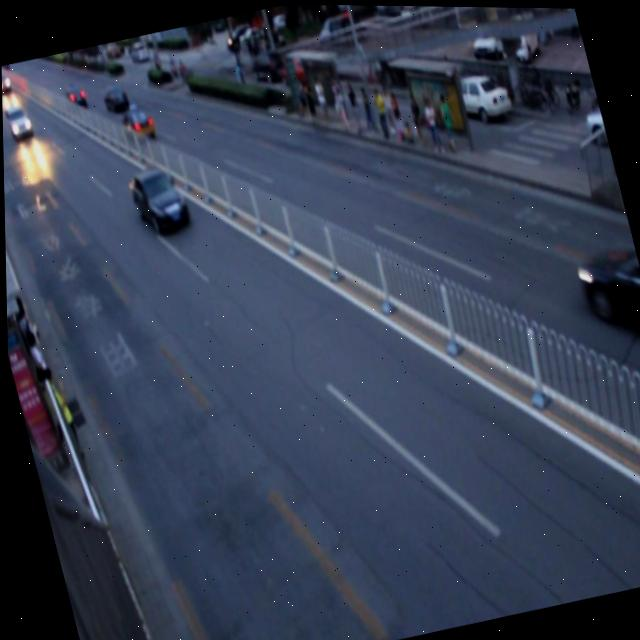car: (568, 231, 640, 371), (123, 161, 190, 239), (113, 101, 157, 147)
